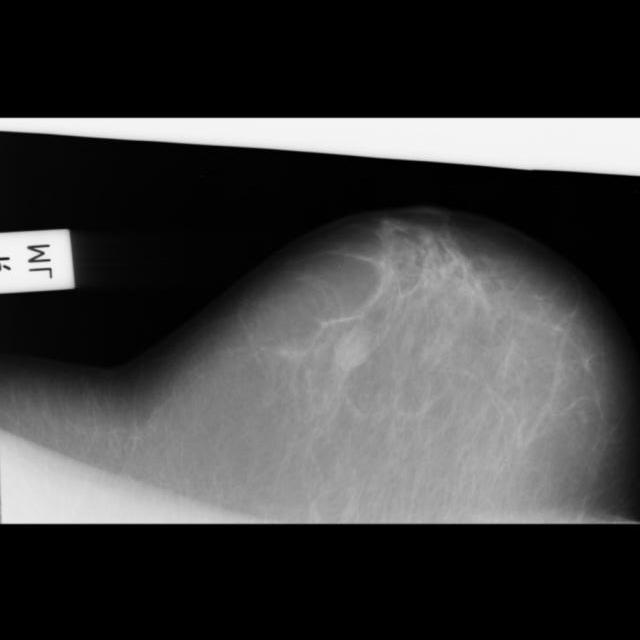CIRC: (329, 321, 379, 371)
